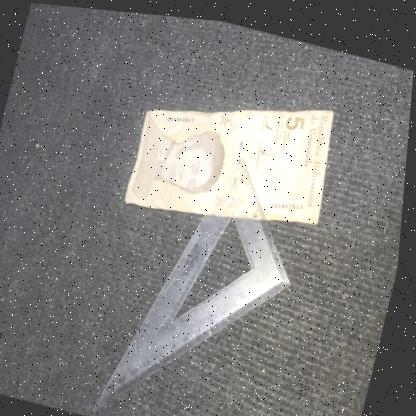vef_front: (123, 59, 347, 245)
